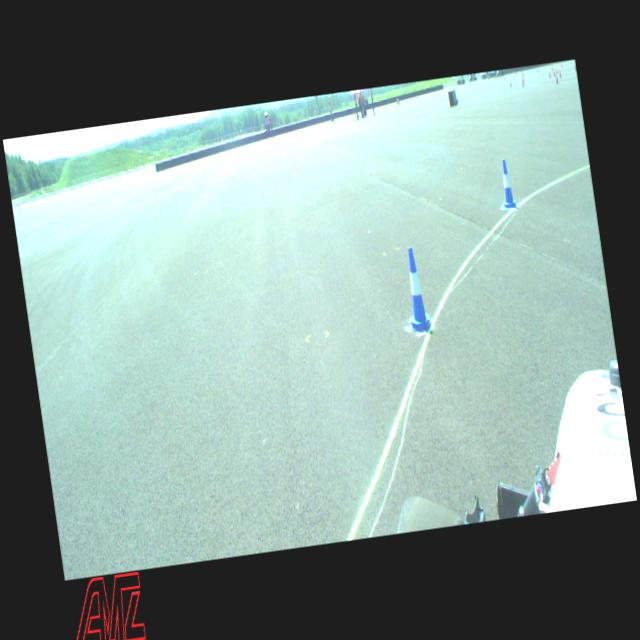blue_cone: (398, 246, 434, 334), (498, 158, 518, 209)
